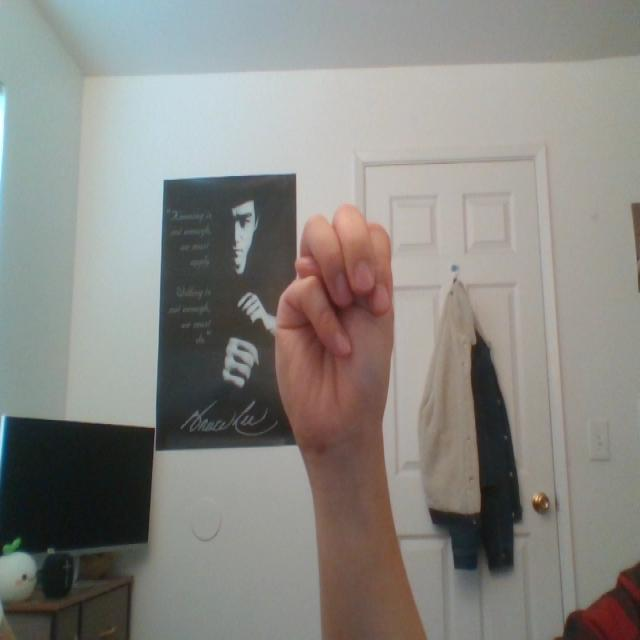M: (267, 185, 432, 472)
